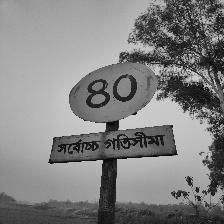Speed-limit: (49, 59, 175, 164)
